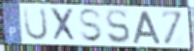7: (161, 10, 183, 47)
A: (132, 10, 162, 45)
S: (105, 8, 133, 45), (77, 8, 104, 44)
U: (22, 6, 50, 42)
X: (49, 7, 79, 44)
